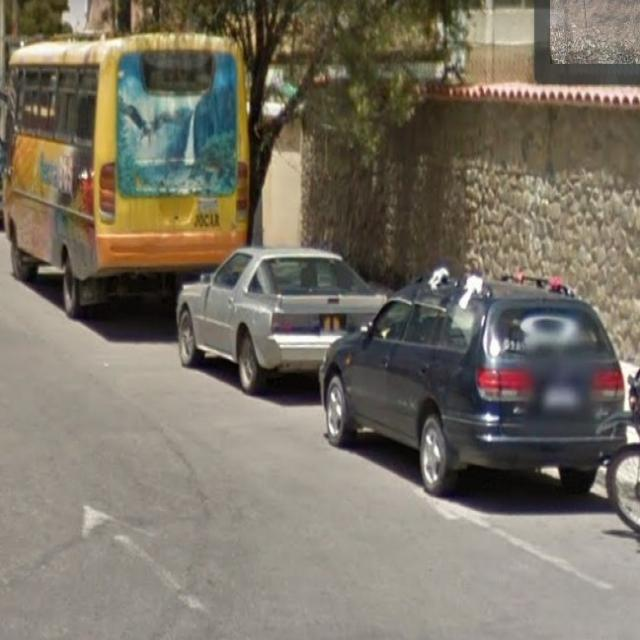cars: (328, 279, 632, 492), (42, 11, 222, 292), (181, 244, 363, 396)
